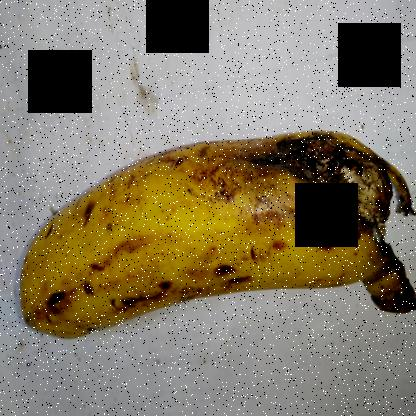ripe: (14, 124, 262, 354)
rotten: (237, 93, 408, 270)
